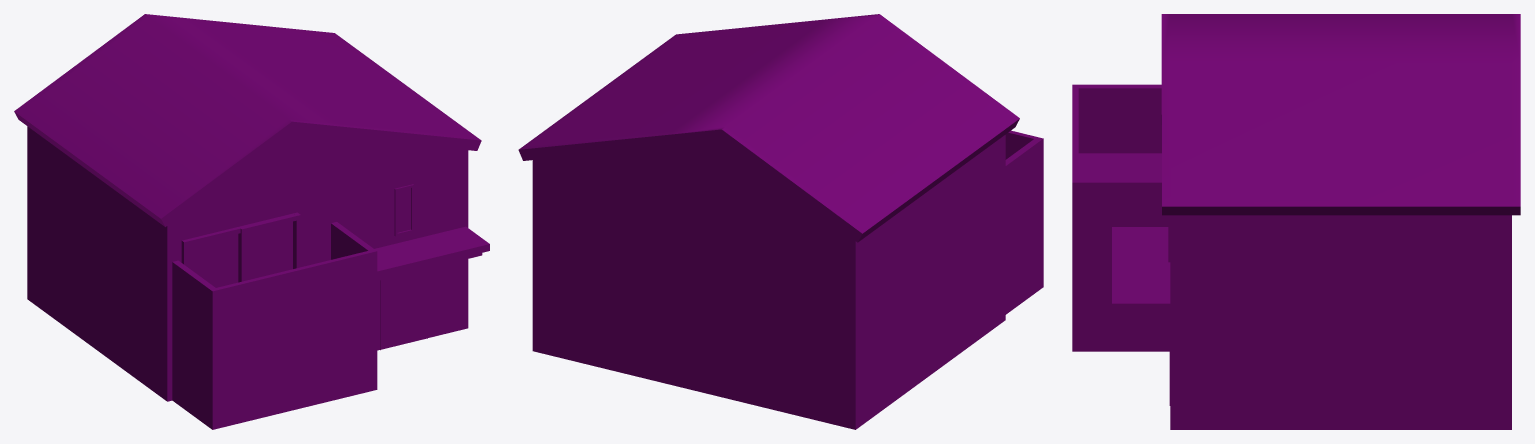
Rendered from House_20.fbx.
The picture shows the model from 3 angles, left to right: view 1: azimuth 30°, elevation 25°; view 2: azimuth 150°, elevation 25°; view 3: azimuth 270°, elevation 25°; orthographic projection. The views are drawn at different scales.
Parts seen in each view (by area): view 1: house1; view 2: house1; view 3: house1.
Part boxes in pixels (x1,y1,x2,y2): house1: (14, 14, 489, 429); house1: (518, 14, 1043, 429); house1: (1072, 14, 1520, 429).
Size of the model in its own units: 970 by 732 by 963.
